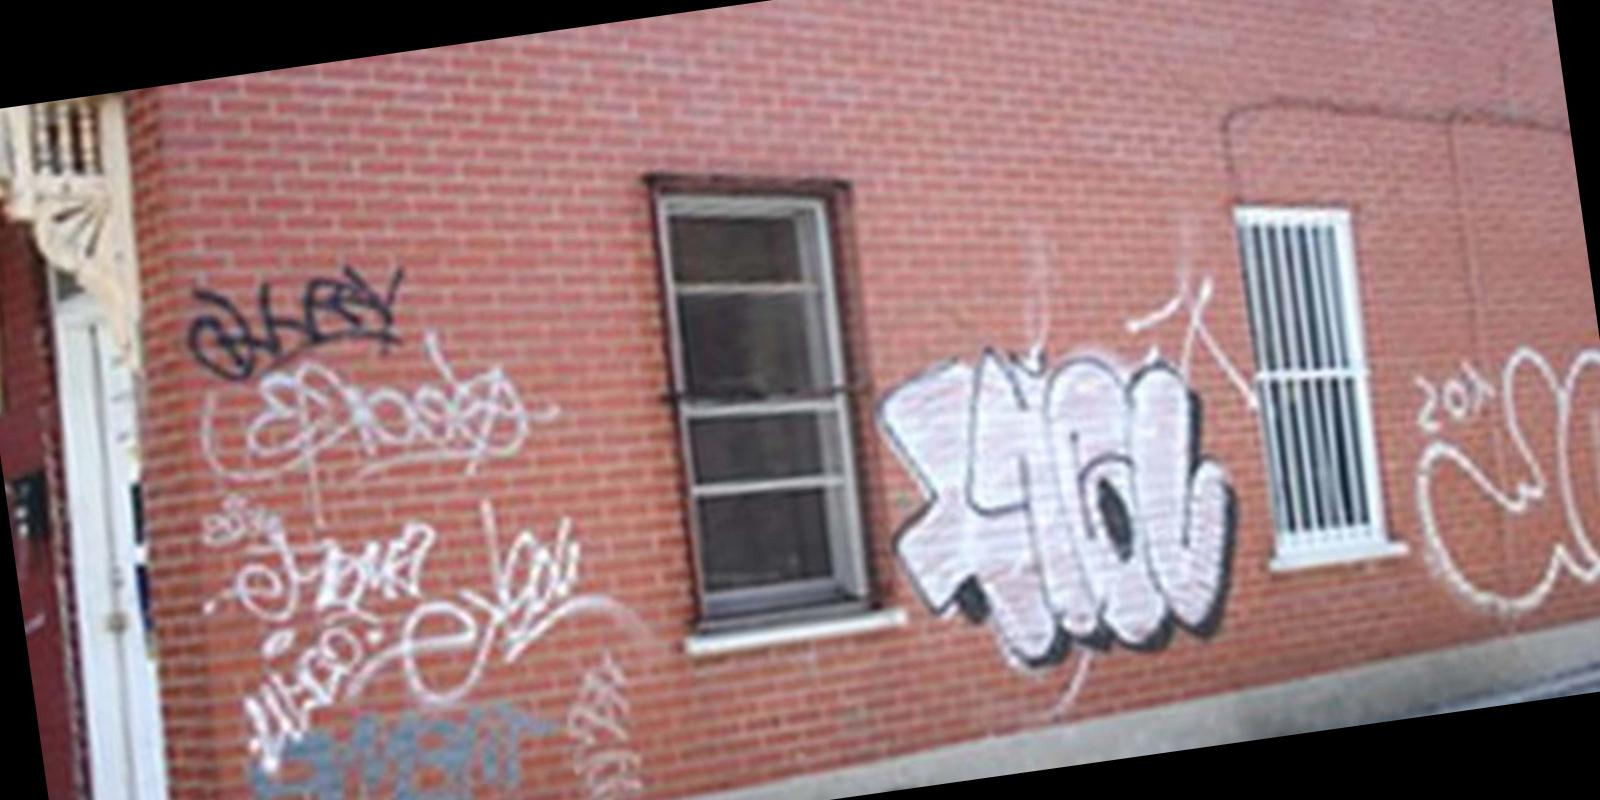graffiti: (159, 235, 633, 800), (859, 318, 1256, 679), (1389, 326, 1600, 623)
